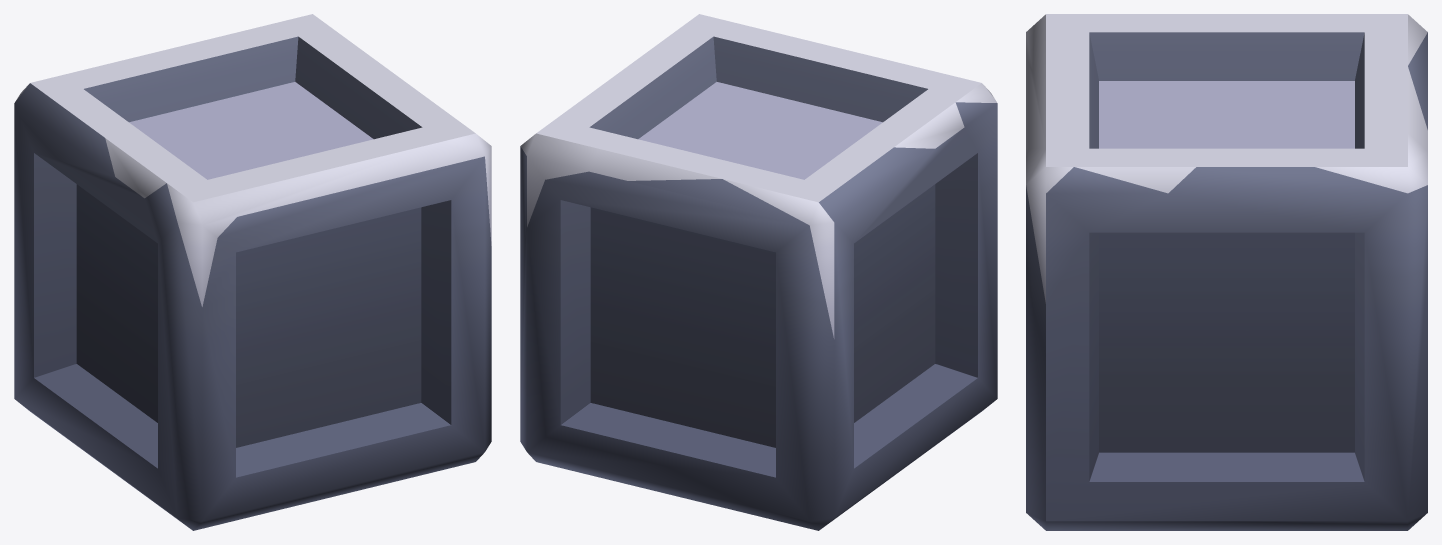
The model's file is snow-crate.obj.
3 views of the same model, side by side, from view 1: azimuth 30°, elevation 25°; view 2: azimuth 150°, elevation 25°; view 3: azimuth 270°, elevation 25° (orthographic). The views are drawn at different scales.
Visible parts, largest first — view 1: snow-crate; view 2: snow-crate; view 3: snow-crate.
Boxes of the visible parts, bbox=[...] form: snow-crate: bbox=[14, 14, 491, 530]; snow-crate: bbox=[520, 14, 997, 530]; snow-crate: bbox=[1026, 14, 1427, 530].
Size of the model in its own units: 5.22 by 5.22 by 5.22.
Materials: 1 (1 with a texture image).
